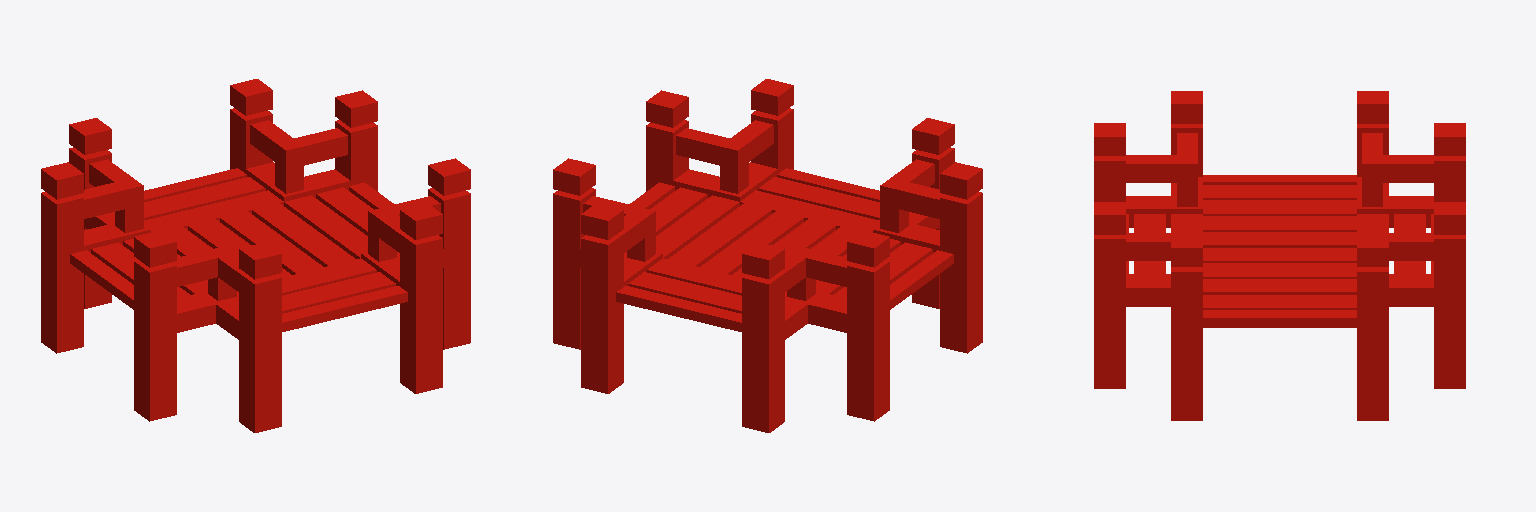
3 views of the same model, side by side, from view 1: azimuth 30°, elevation 25°; view 2: azimuth 150°, elevation 25°; view 3: azimuth 270°, elevation 25° (orthographic).
Visible parts, largest first — view 1: cube; view 2: cube; view 3: cube.
Part boxes in pixels (left/top/right/bottom): cube: left=41, top=79, right=470, bottom=432; cube: left=553, top=79, right=982, bottom=432; cube: left=1094, top=91, right=1465, bottom=420.
Size of the model in its own units: 1.09 by 0.5625 by 1.09.
Materials: 1 (1 with a texture image).